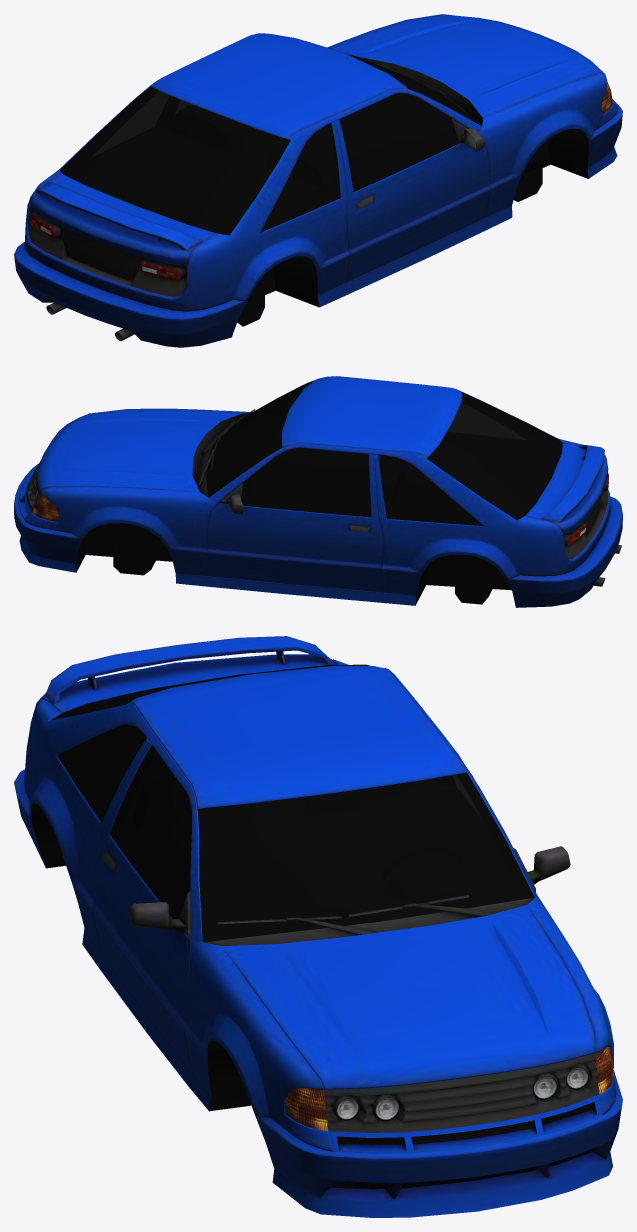
File: auto-coupe.glb
3 views of the same model, one above another, from view 1: azimuth 30°, elevation 25°; view 2: azimuth 150°, elevation 25°; view 3: azimuth 270°, elevation 25° (orthographic). The views are drawn at different scales.
Parts seen in each view (by area): view 1: Coupe Body; view 2: Coupe Body; view 3: Coupe Body.
Boxes of the visible parts, x1,y1,x2,y2 form: Coupe Body: (14,14,622,347); Coupe Body: (14,376,622,607); Coupe Body: (14,636,622,1217).
Bounding box in the file's own units: 4.2 × 1.16 × 2.5.
3 materials, 2 textured.
